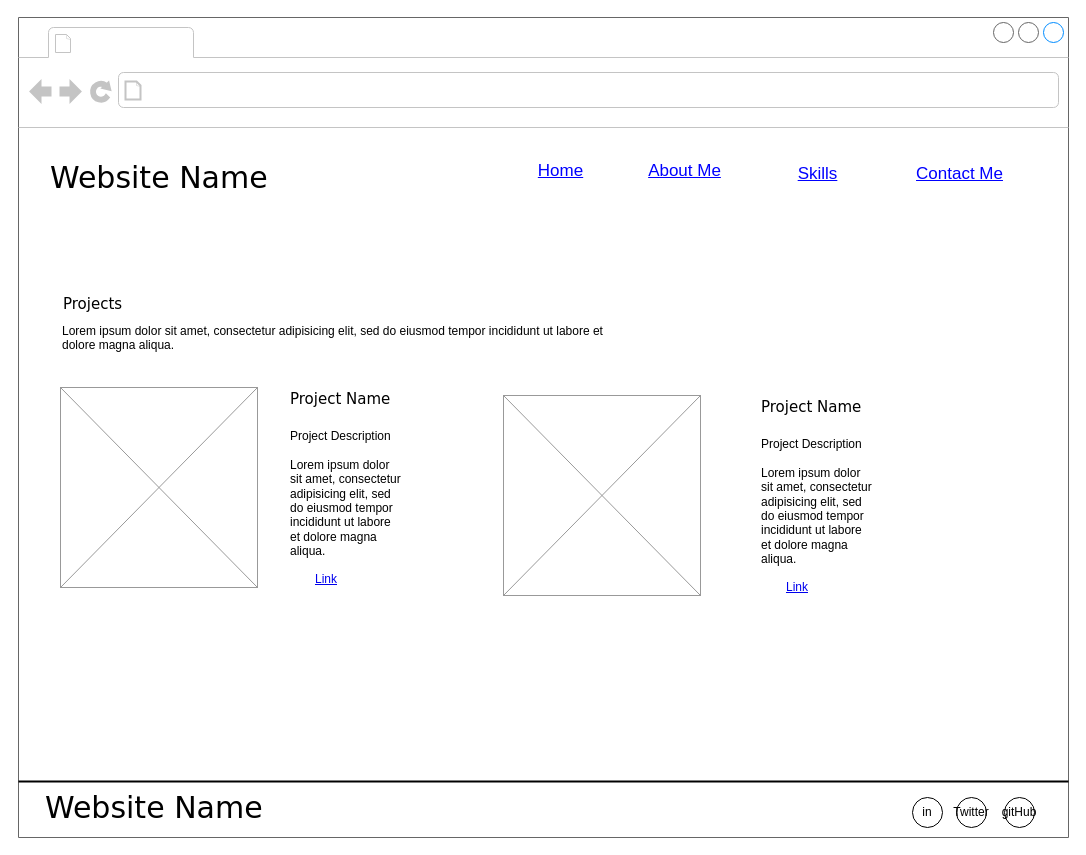
This 1086x855 diagram has some shape labels left out. The centre of each missing label's shape, as x and y in pixels:
"https://www.default.com" belongs at (273,90).
"Page 1" belongs at (133,42).
